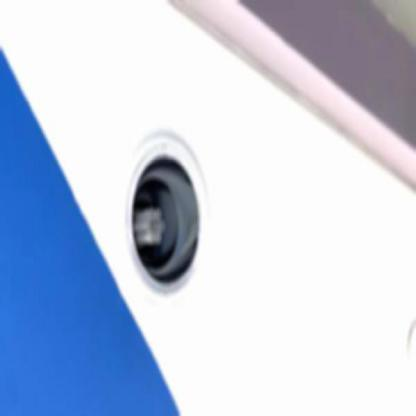light_off: (111, 94, 218, 318)
